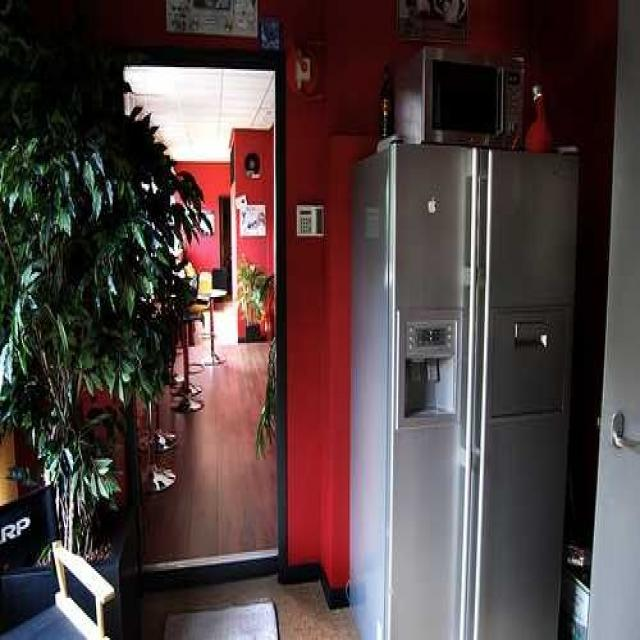refrigerator: (353, 135, 584, 631)
